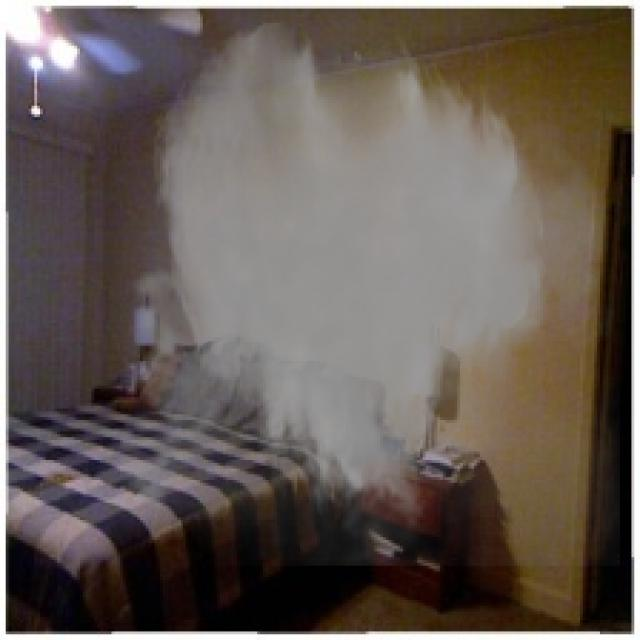smoke: (97, 17, 620, 566)
